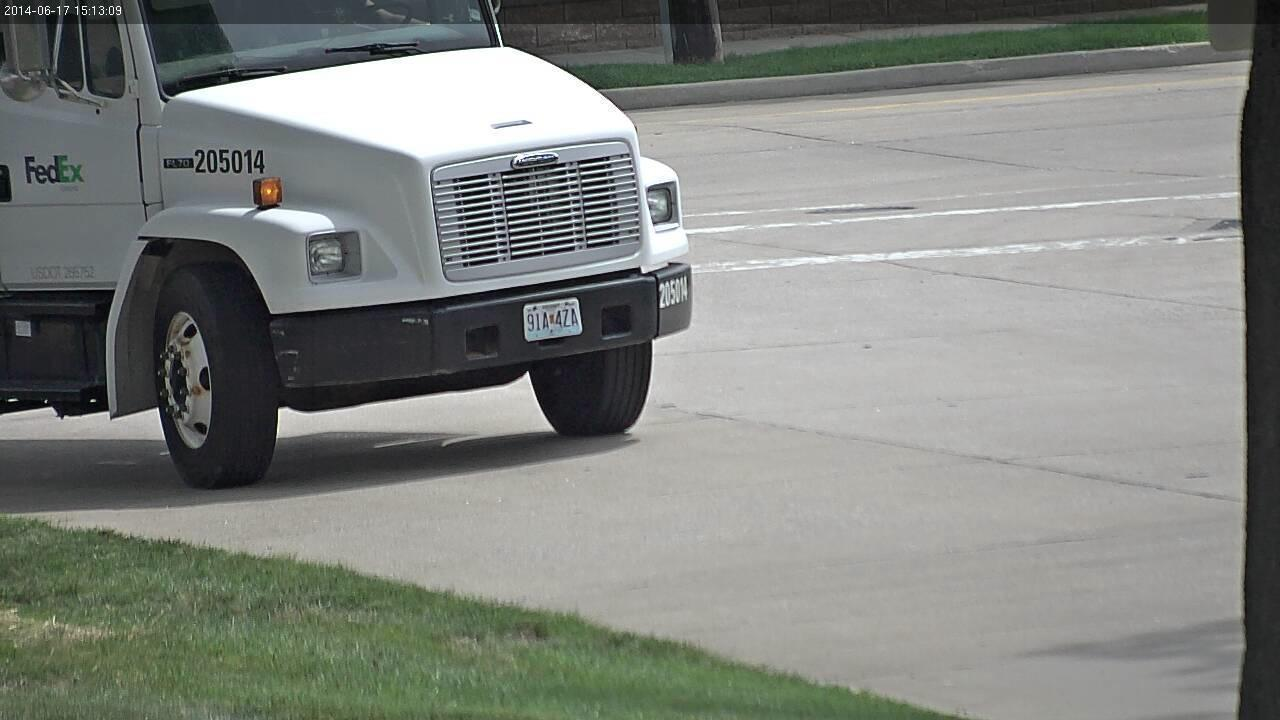placa de veiculo: (514, 292, 599, 341)
